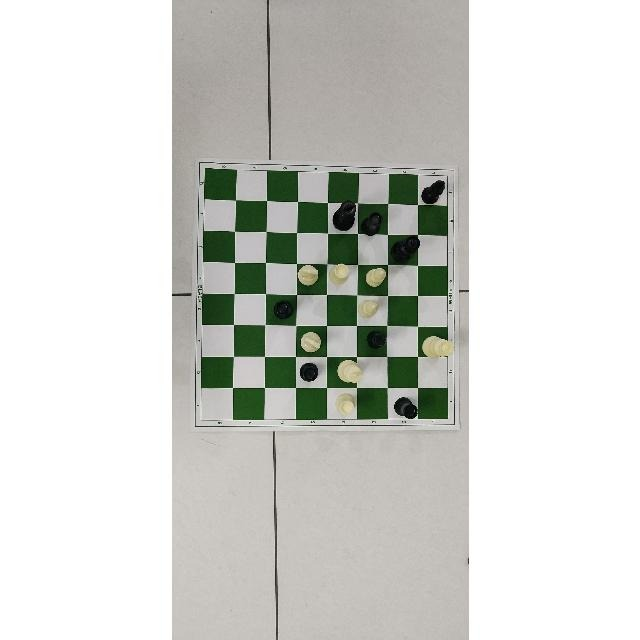black-bishop: (419, 179, 446, 204), (365, 331, 386, 349)
black-king: (331, 200, 357, 233)
black-queen: (388, 236, 419, 262)
black-rook: (391, 395, 416, 418), (361, 211, 383, 237), (272, 298, 292, 319), (298, 362, 318, 381)
white-bishop: (364, 267, 385, 287), (357, 301, 378, 319)
white-king: (336, 359, 362, 385)
white-knight: (299, 331, 321, 353), (296, 264, 317, 286)
white-queen: (420, 336, 454, 360)
white-rook: (334, 393, 354, 417), (327, 263, 348, 285)
